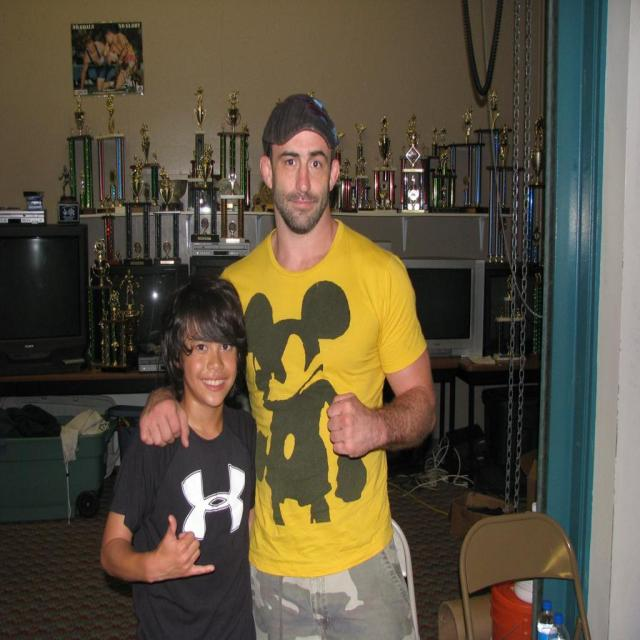Face: (264, 125, 337, 239), (173, 311, 244, 410)
